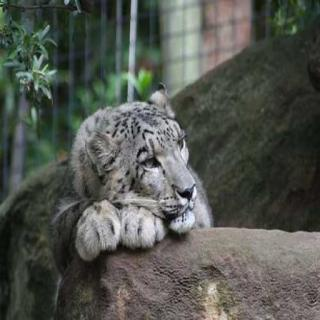Leopard: (42, 61, 244, 271)
